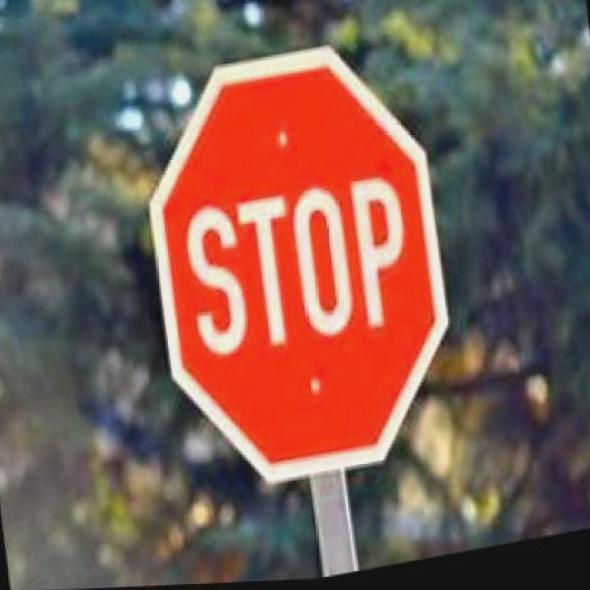stop_sign: (127, 21, 479, 510)
